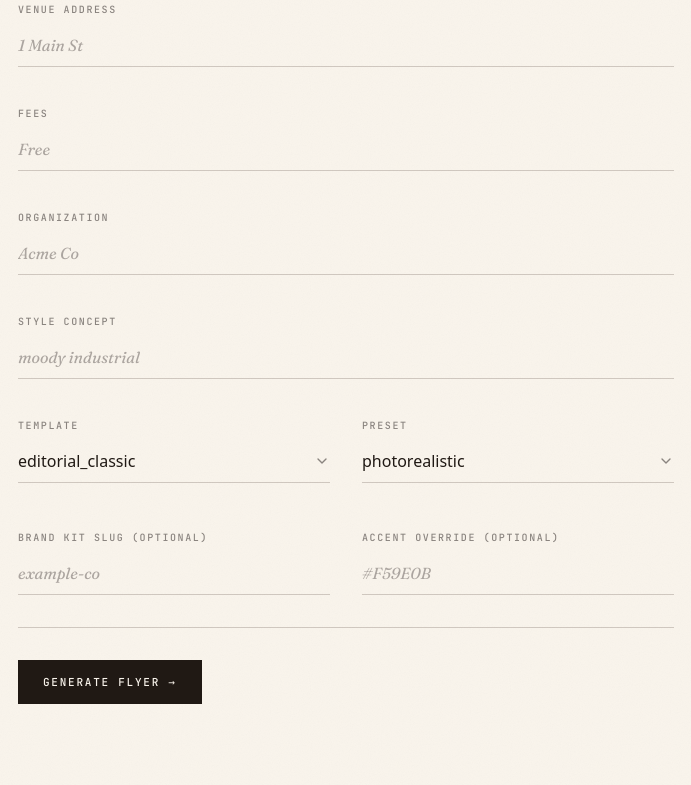
Test: NewFlyerPage — Plan 21 baseline behavior preserved › rejects empty title
(page scrolled)
Click the button "Generate flyer →": (110, 682) [18,660,202,704]
(page scrolled)
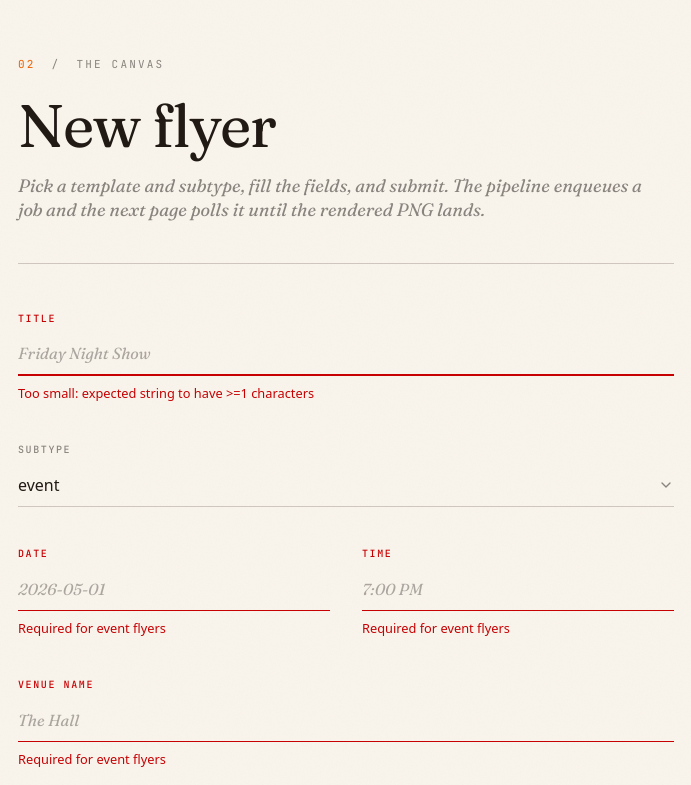
expect the text "Too small: expected string to have >=1 characters" is shown: met, box [18,384,314,402]
